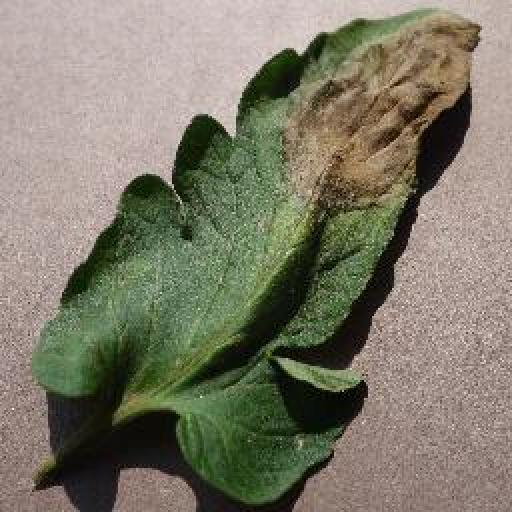disease_tomato: (32, 6, 486, 512)
